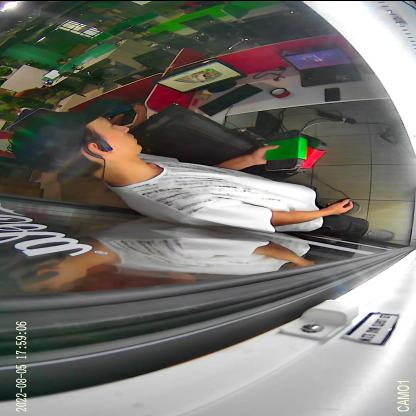green: (264, 128, 308, 170)
red: (285, 132, 328, 174)
